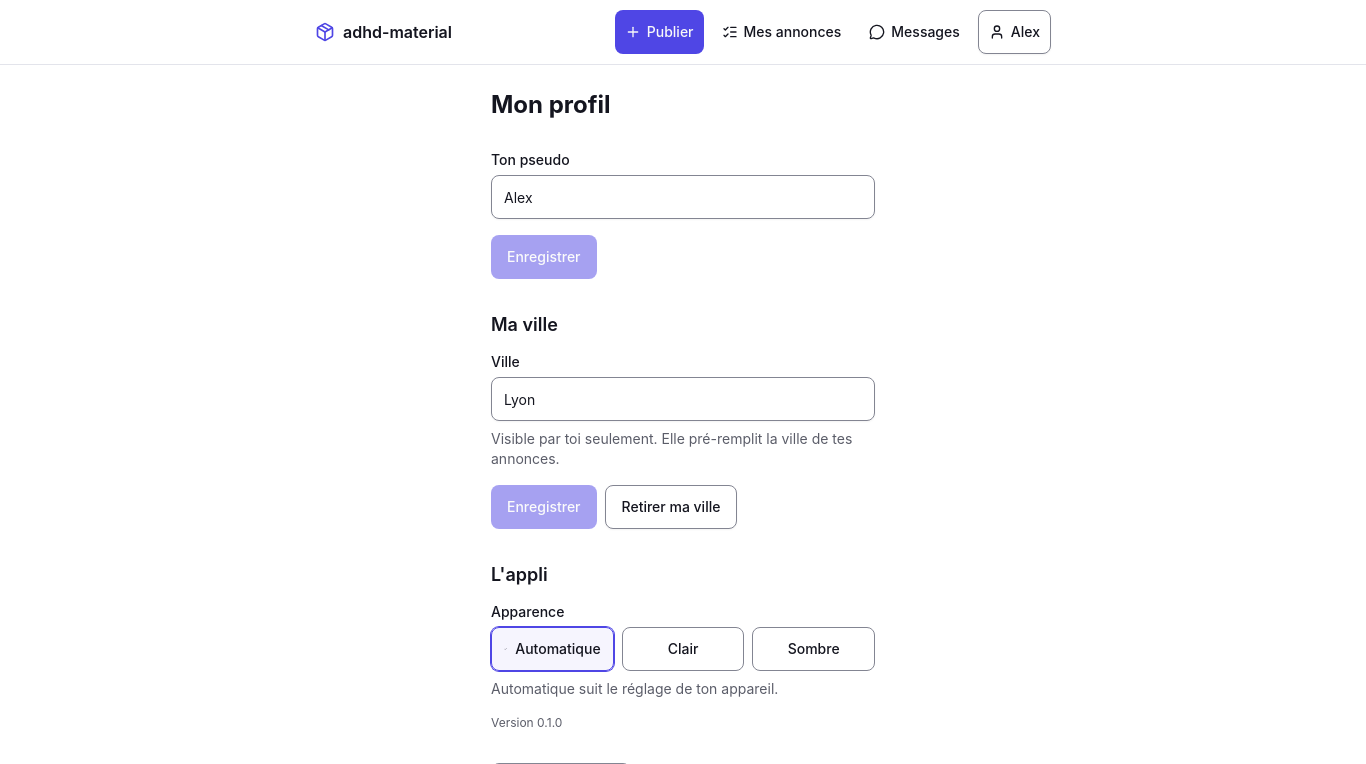
Test: section « Ma ville » du profil › retire la ville et garde le focus dans le champ
This screenshot has width=1366, height=764.
Step 1. Click the button "Retirer ma ville" → (671, 507), box [604,485,737,529]
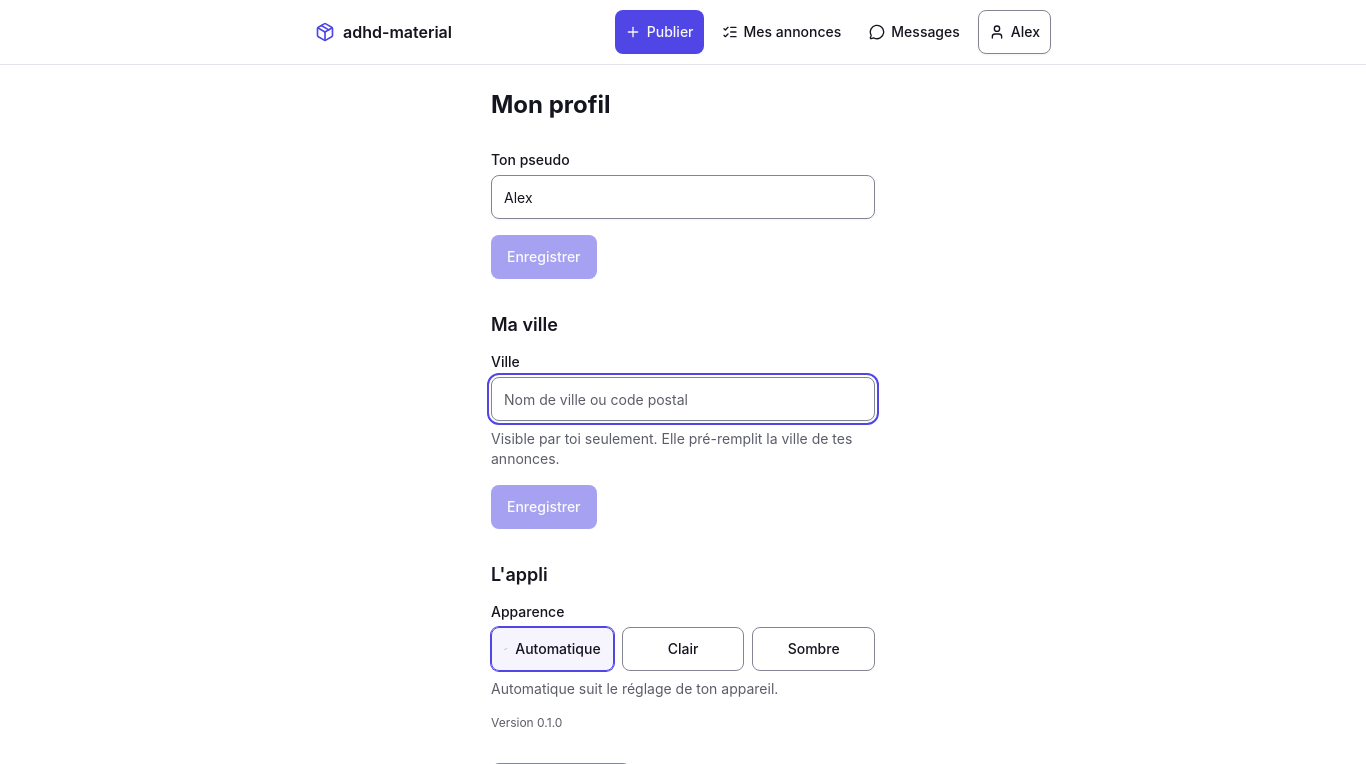
Expected: the dropdown labelled "Ville" is empty, [491,377,875,421]
Expected: the button "Retirer ma ville" is gone
